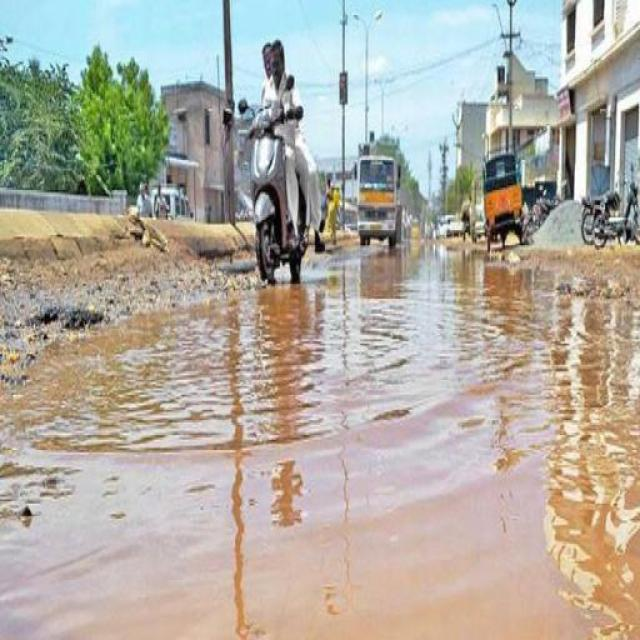puddle: (83, 321, 629, 640), (339, 255, 491, 375)
